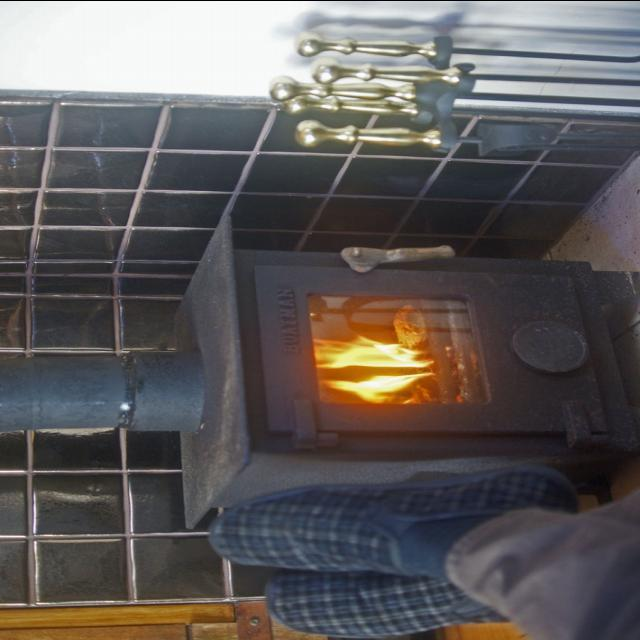Fire: (296, 314, 480, 410)
